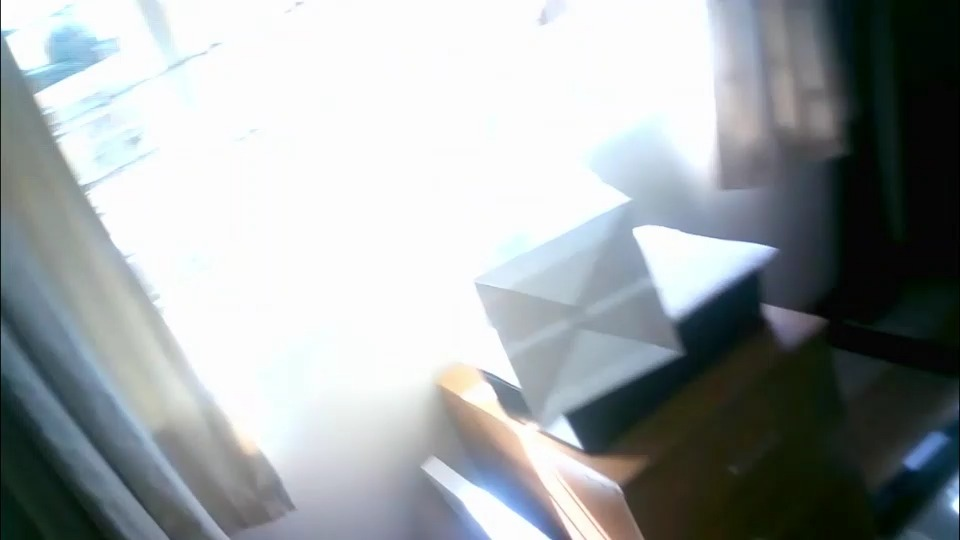wheat_flour_blue_label: (426, 158, 685, 423)
